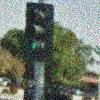traffic lights: (27, 3, 53, 60)
